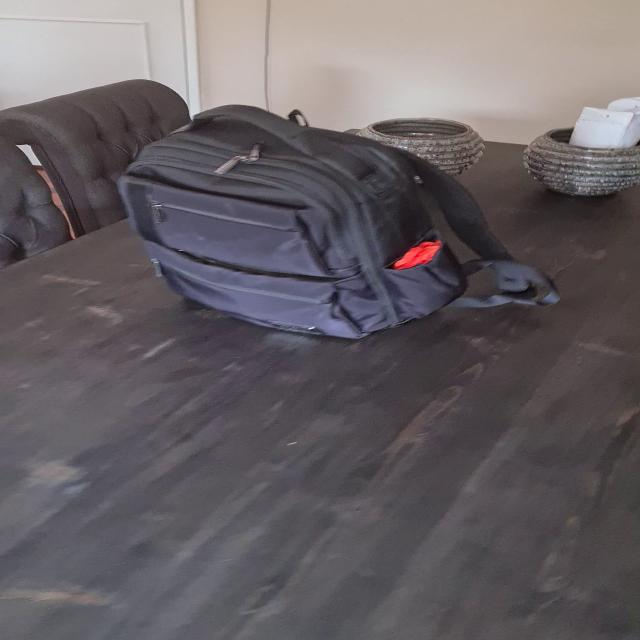backpack: (102, 91, 510, 342)
